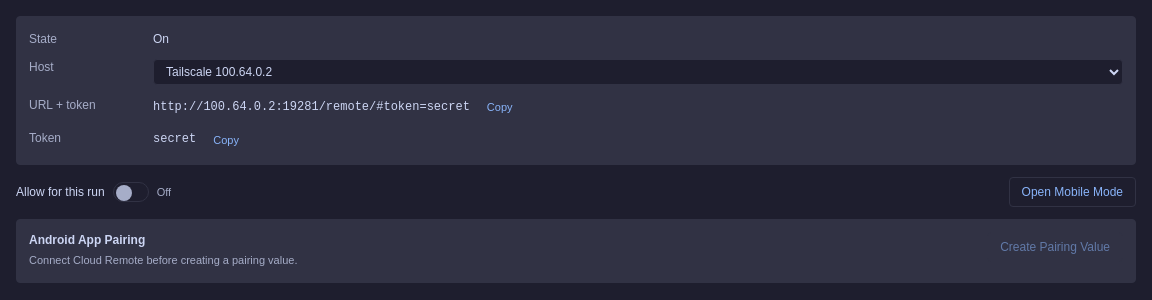
Scenario: RemoteAccessModal › updates the copy URL when the selected host changes
This screenshot has width=1152, height=300.
Select "LAN 192.168.0.44" in the dropdown with test id "remote-host-select" at (638, 72), box [153,59,1123,85]
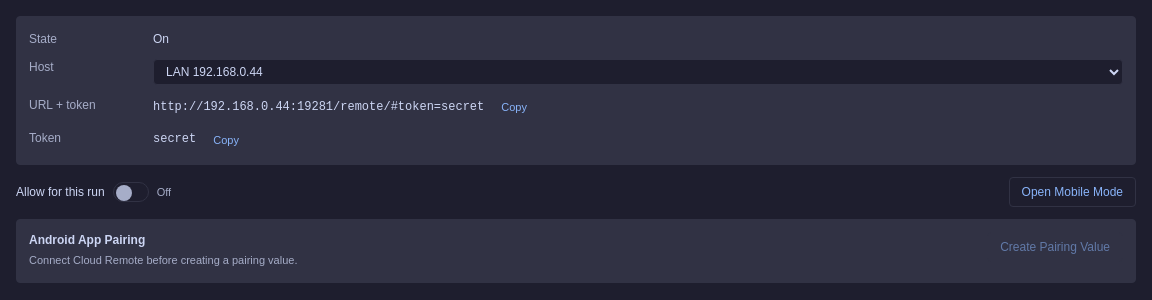
Now the text "http://192.168.0.44:19281/remote/#token=secret" is shown, box [153,98,484,117]
